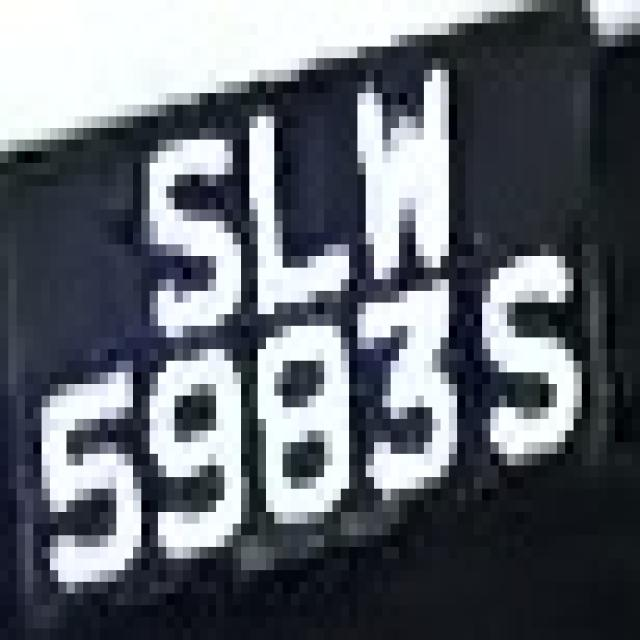3: (316, 268, 474, 512)
5: (25, 372, 141, 594)
8: (216, 267, 366, 558)
9: (133, 326, 249, 593)
L: (225, 70, 358, 326)
S: (449, 221, 582, 489), (133, 116, 249, 384)
W: (341, 58, 465, 326)
